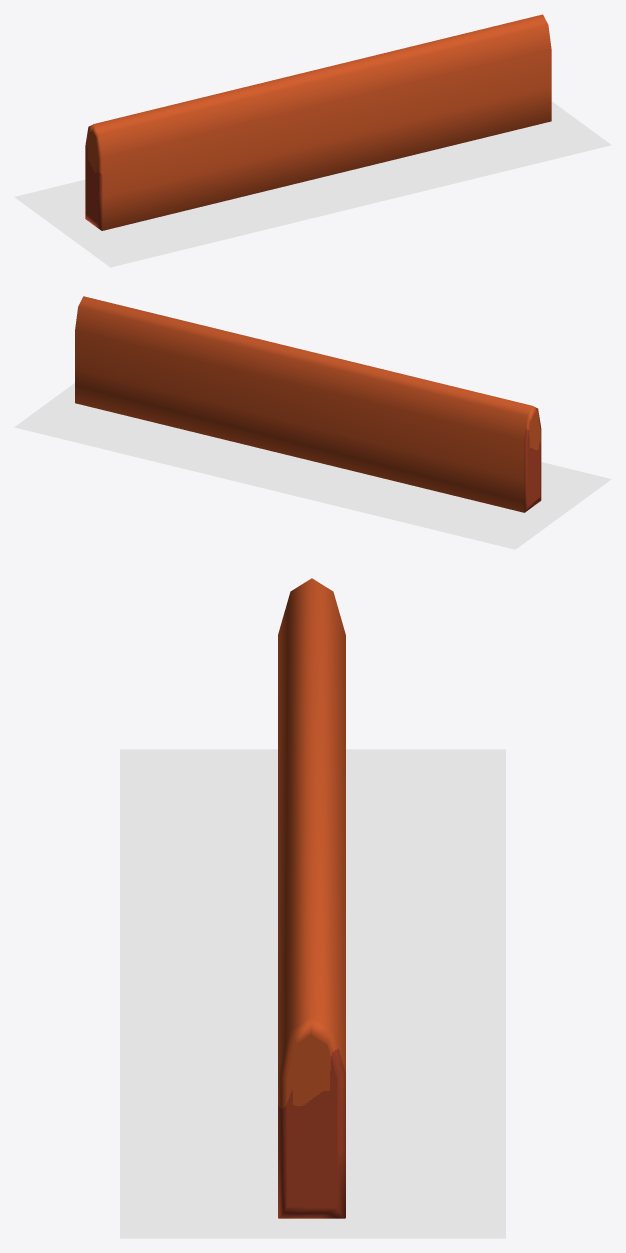
File: NormalContent.fbx
3 views of the same model, one above another, from view 1: azimuth 30°, elevation 25°; view 2: azimuth 150°, elevation 25°; view 3: azimuth 270°, elevation 25° (orthographic). The views are drawn at different scales.
Visible parts, largest first — view 1: BasicObstacle, Shadow; view 2: BasicObstacle, Shadow; view 3: Shadow, BasicObstacle.
Boxes of the visible parts, x1,y1,x2,y2 form: BasicObstacle: [85, 14, 551, 230]; Shadow: [14, 101, 611, 267]; BasicObstacle: [75, 296, 541, 512]; Shadow: [14, 383, 611, 549]; Shadow: [120, 749, 505, 1238]; BasicObstacle: [278, 578, 345, 1218].
Size of the model in its own units: 2.04 by 0.3992 by 0.6805.
2 materials, 2 textured.
